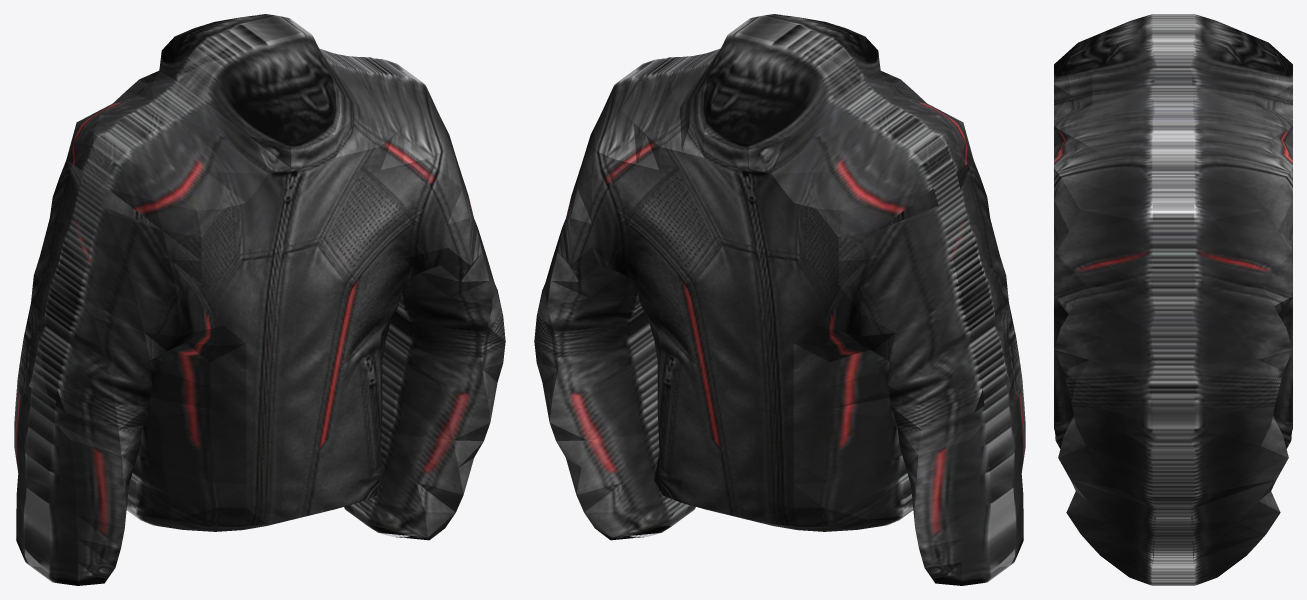
Rendered from alpinestars-vector-leather-jacket-002.glb.
3 renders of one model, left to right at view 1: azimuth 30°, elevation 25°; view 2: azimuth 150°, elevation 25°; view 3: azimuth 270°, elevation 25°, orthographic. The views are drawn at different scales.
Visible parts, largest first — view 1: world; view 2: world; view 3: world.
Boxes of the visible parts, box(x1,y1,x2,y2) form: world: box(14, 14, 505, 585); world: box(534, 14, 1025, 585); world: box(1054, 14, 1292, 585).
Size of the model in its own units: 0.8739 by 1 by 0.44.
Materials: 1 (1 with a texture image).
